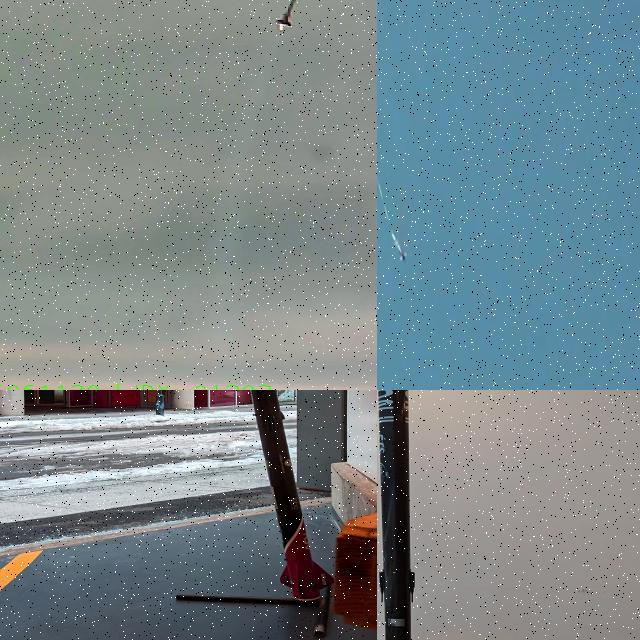Rocket: (249, 390, 335, 601), (378, 390, 415, 640), (273, 0, 307, 27), (391, 230, 408, 264)
